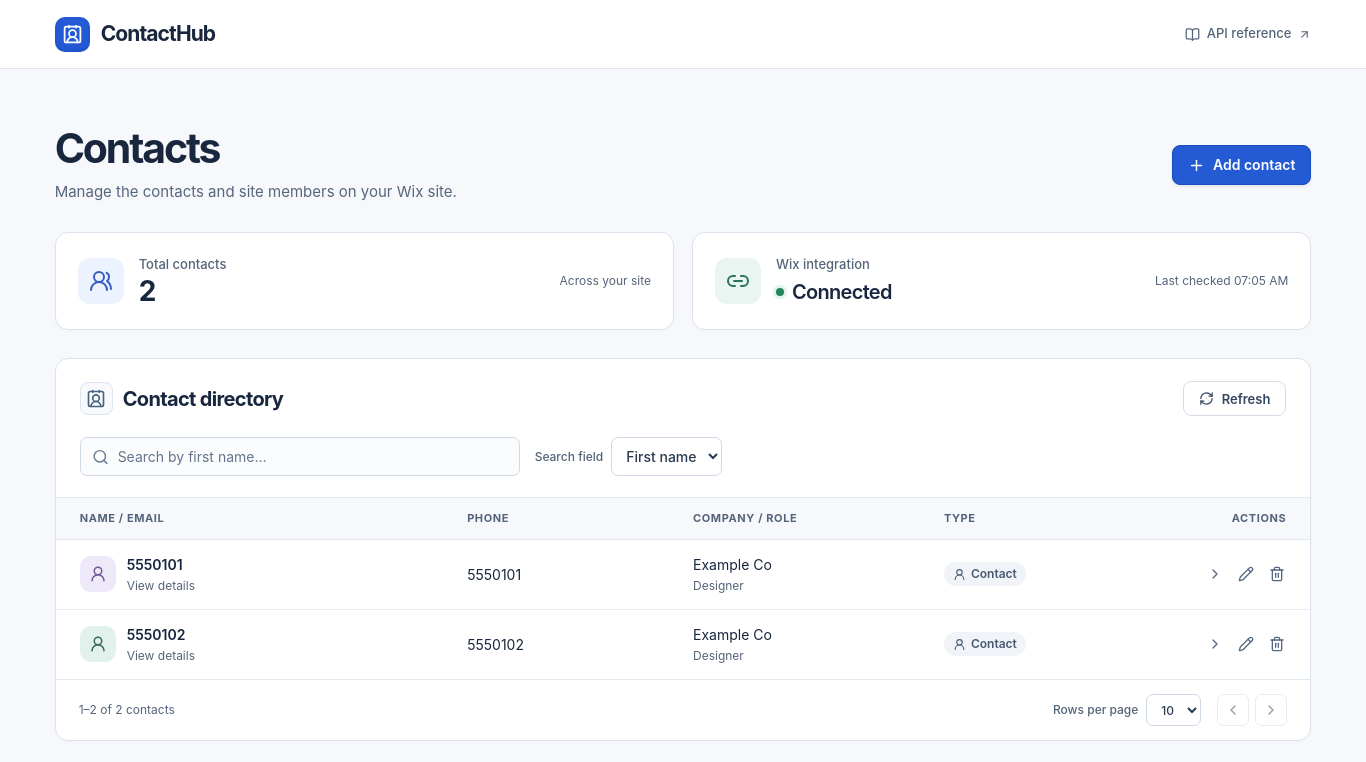
it: identifies the selected contact in delete controls and confirmation: phone only
This screenshot has width=1366, height=762.
Expected: the text "Connected" is shown, 776,277 -> 892,307
Click the button named "Delete 5550102": (1277, 644) 1261,628 -> 1292,660
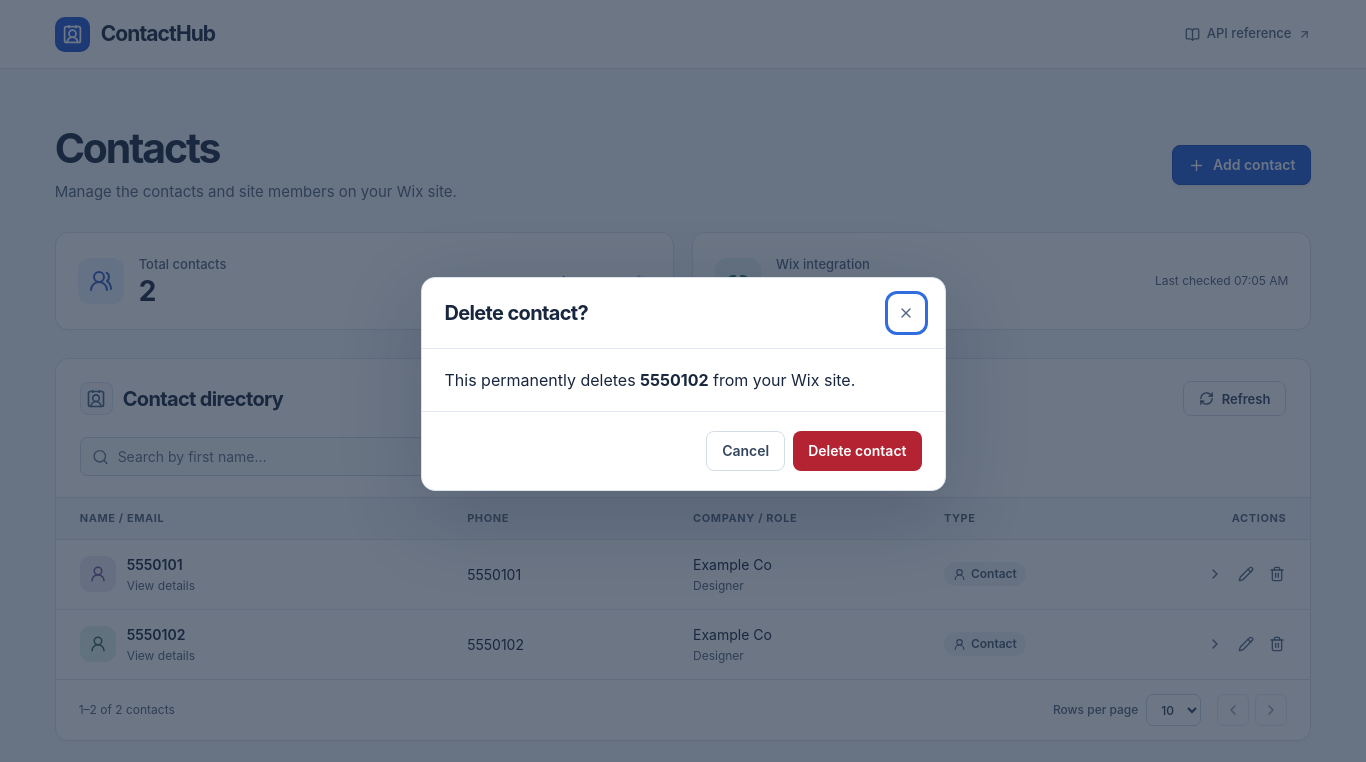
Expected: the text "5550102" is shown, 640,370 -> 708,390
Click the button "Delete contact": (857, 451) 793,431 -> 922,471
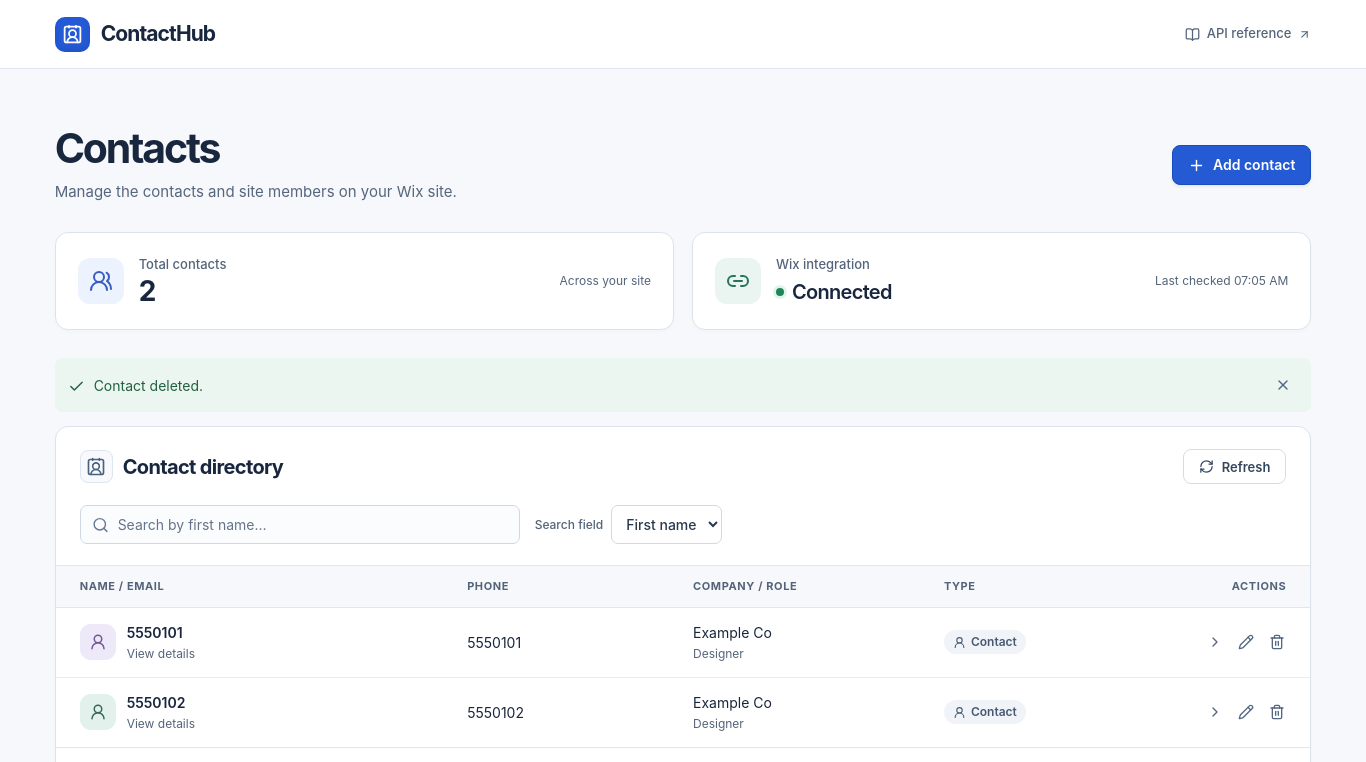
Expected: the text "Contact deleted." is shown, 55,358 -> 1311,412
